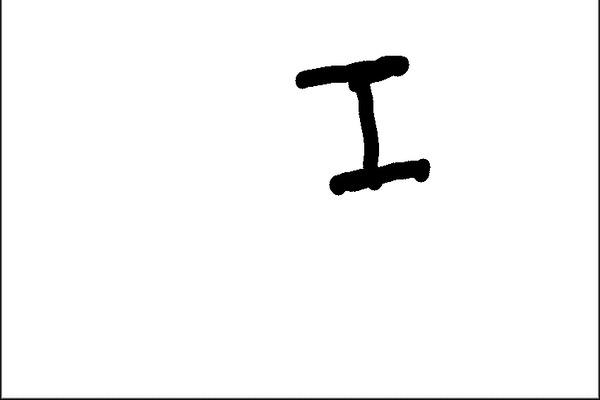i: (291, 49, 441, 201)
